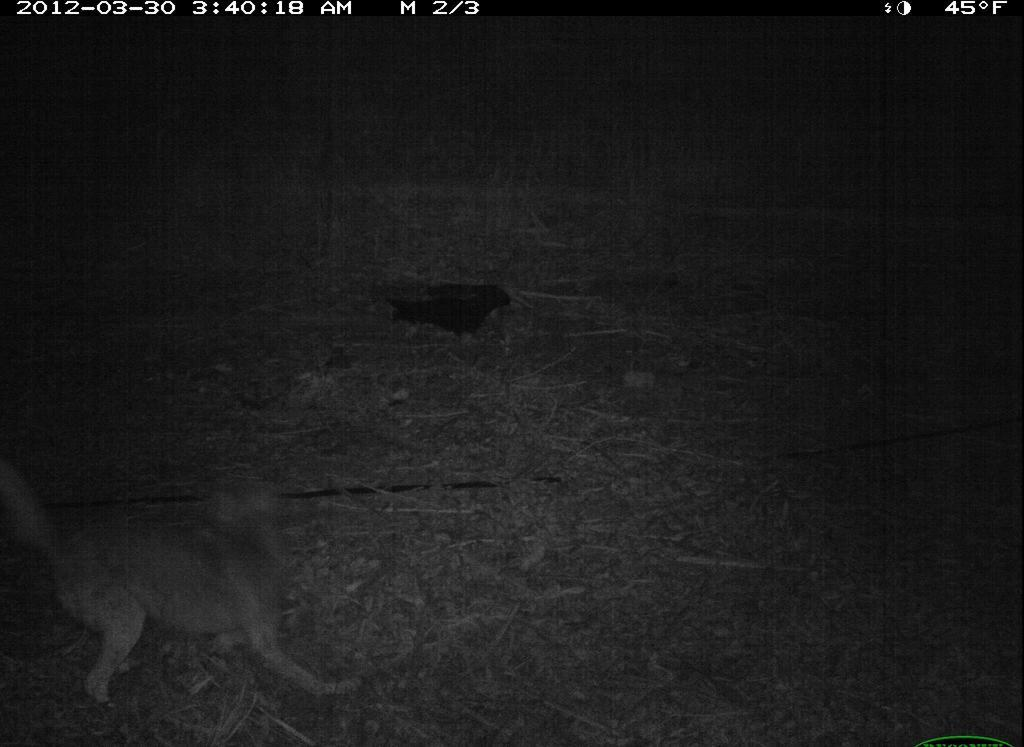coyote: (11, 457, 364, 708)
